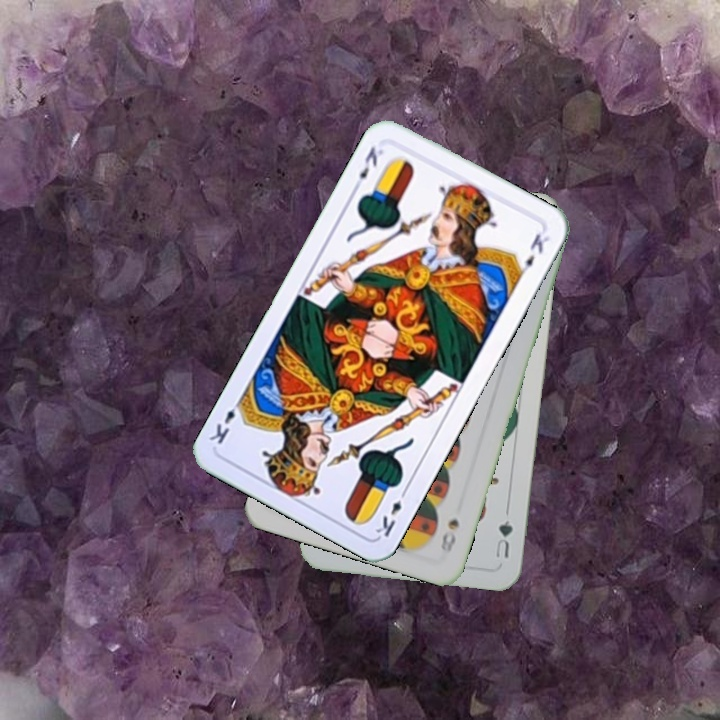EK: (371, 484, 411, 540), (349, 142, 386, 193)
GU: (491, 516, 515, 561)
S8: (436, 514, 462, 557)
